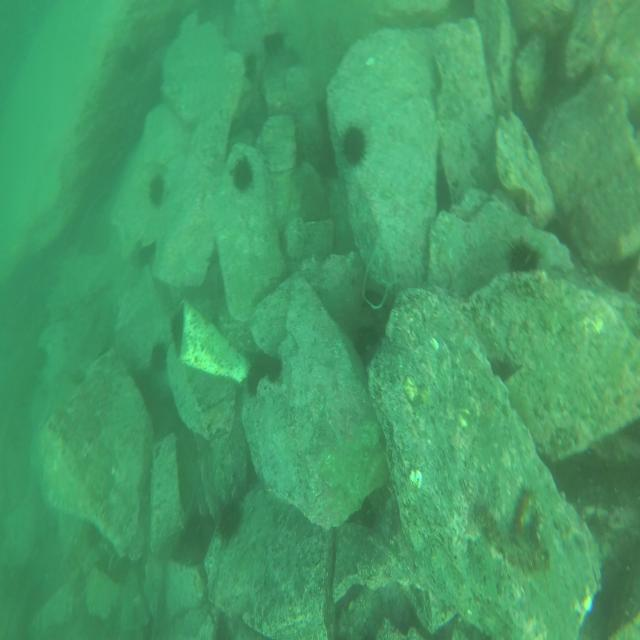echinus: (508, 239, 540, 278), (218, 500, 241, 542), (230, 157, 254, 195), (342, 127, 366, 165), (148, 174, 167, 209), (246, 366, 265, 397), (150, 340, 168, 372), (264, 31, 284, 58), (267, 355, 284, 385)
